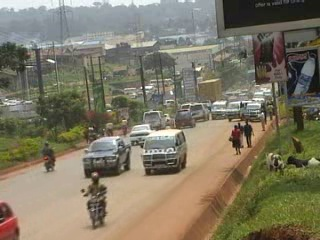Car: (0, 197, 24, 239), (126, 122, 159, 149), (161, 111, 174, 127)
Motorcycle: (78, 168, 111, 229), (40, 137, 56, 173)
